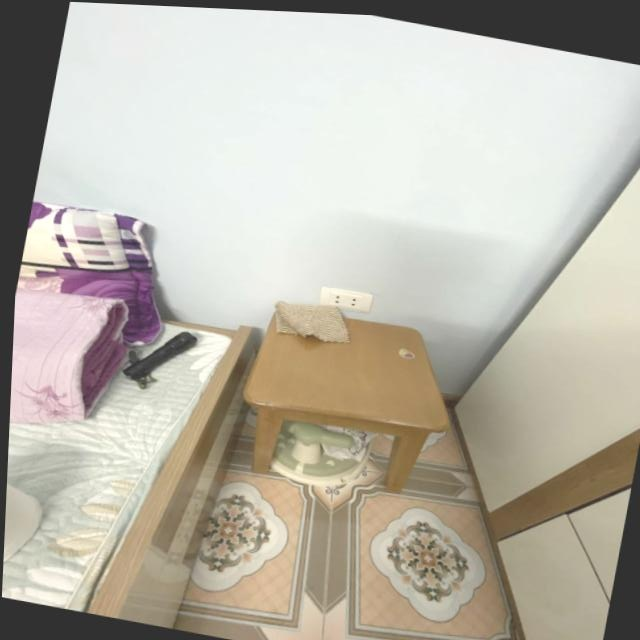outlet: (318, 285, 373, 316)
